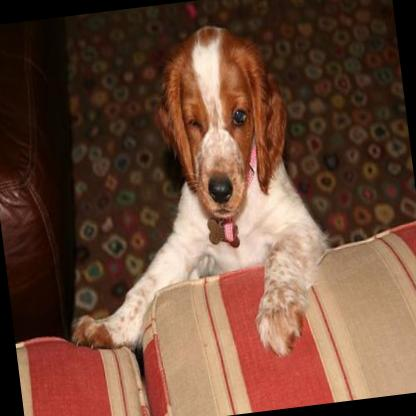Welsh_springer_spaniel: (39, 13, 340, 380)
